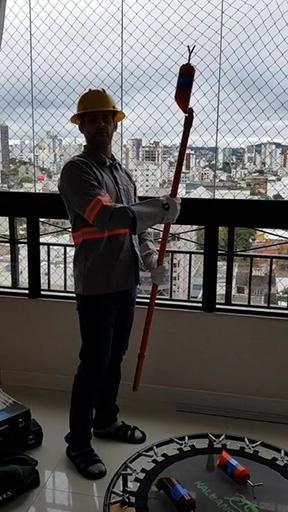Detector_Tensao_Contato: (216, 451, 263, 494), (174, 44, 197, 115), (156, 476, 196, 512)
Vara_Manobra: (130, 110, 192, 392)
